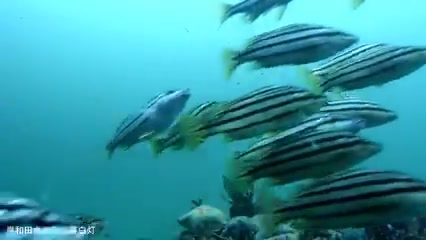bera: (277, 170, 422, 230), (199, 88, 317, 146), (219, 18, 353, 68), (256, 133, 381, 181), (303, 43, 424, 89), (319, 96, 397, 120)
